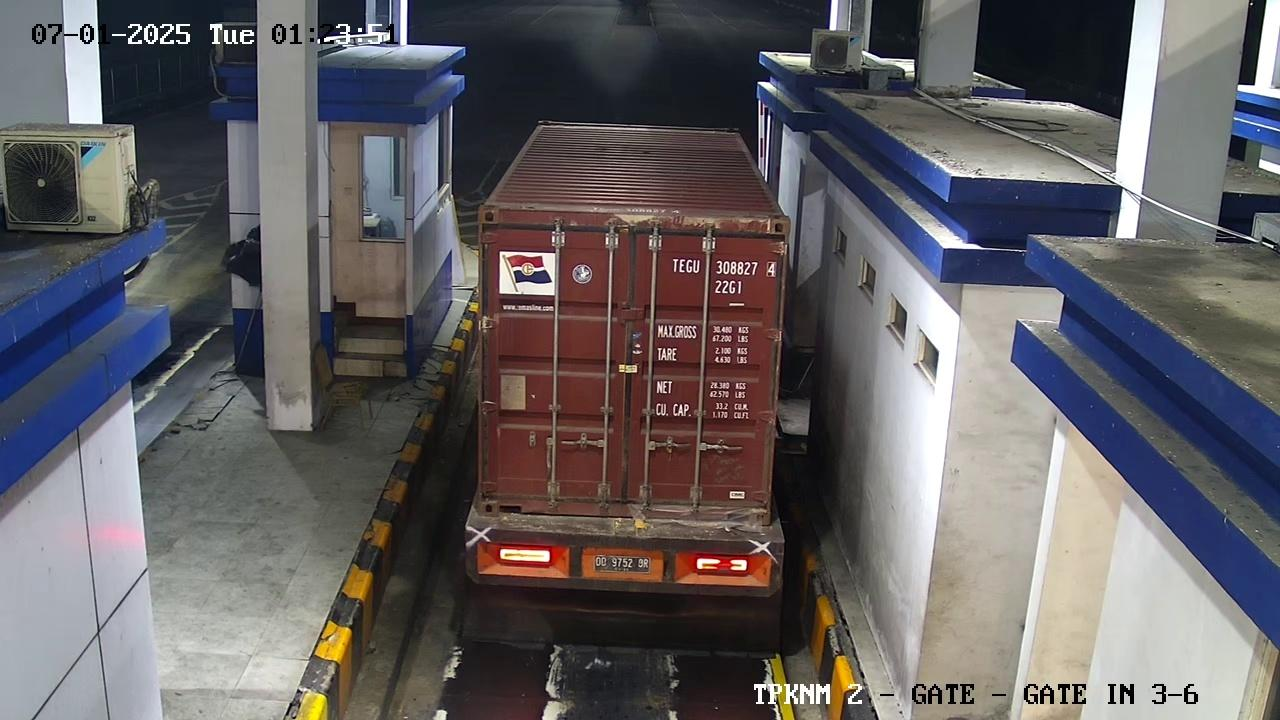Container_ID: (651, 253, 789, 309)
plate_number: (579, 540, 665, 585)
